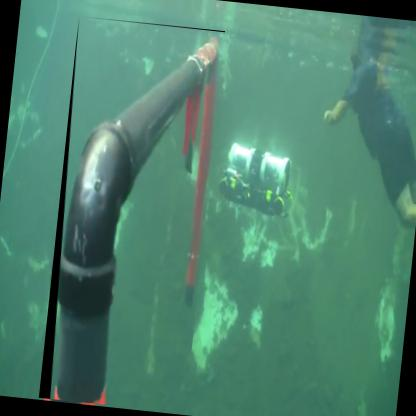gate: (40, 16, 227, 415)
